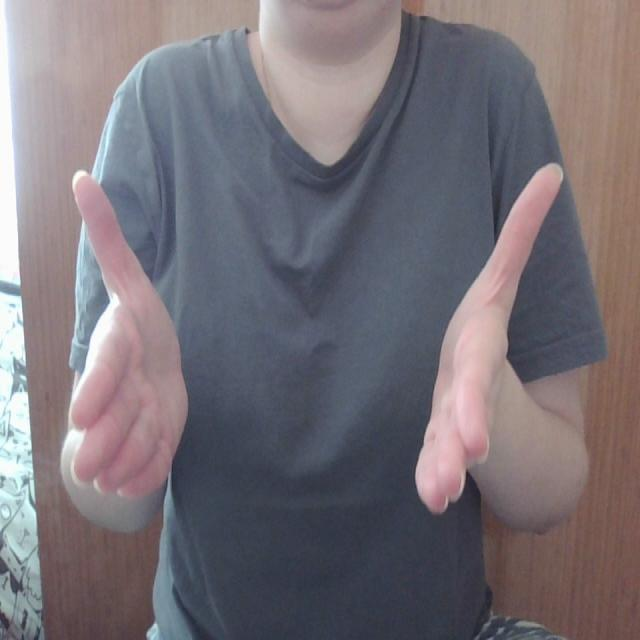Nasil: (63, 163, 570, 510)
